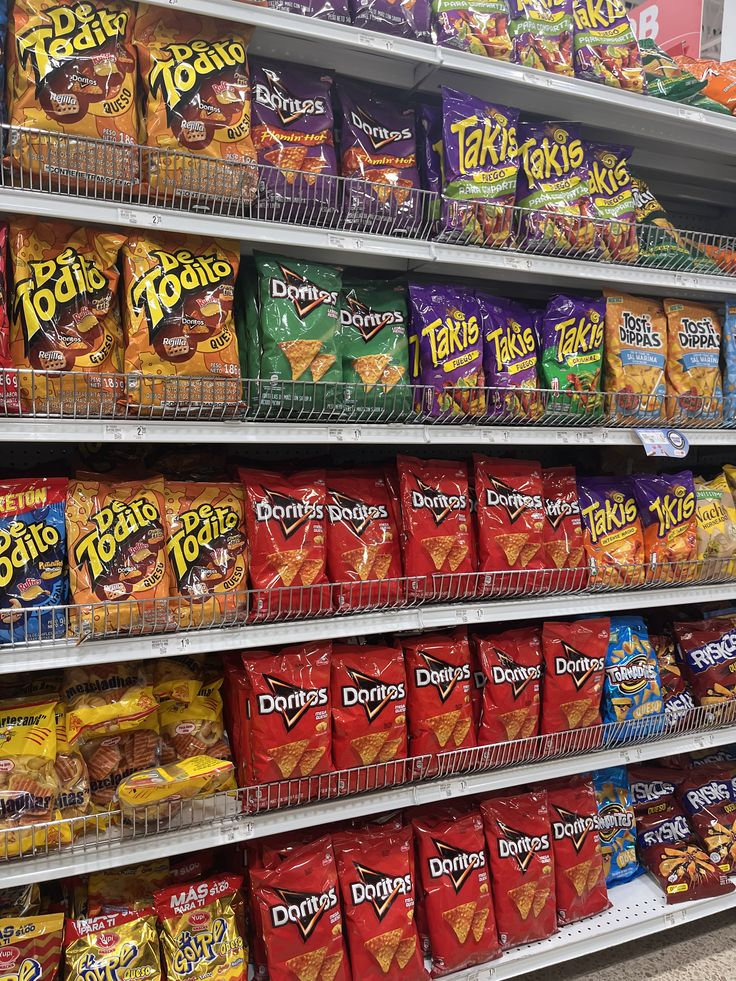snacks: (413, 810, 499, 973), (236, 642, 330, 782), (338, 80, 419, 231), (327, 471, 402, 609), (340, 279, 408, 410), (542, 619, 609, 733), (606, 292, 665, 392)
